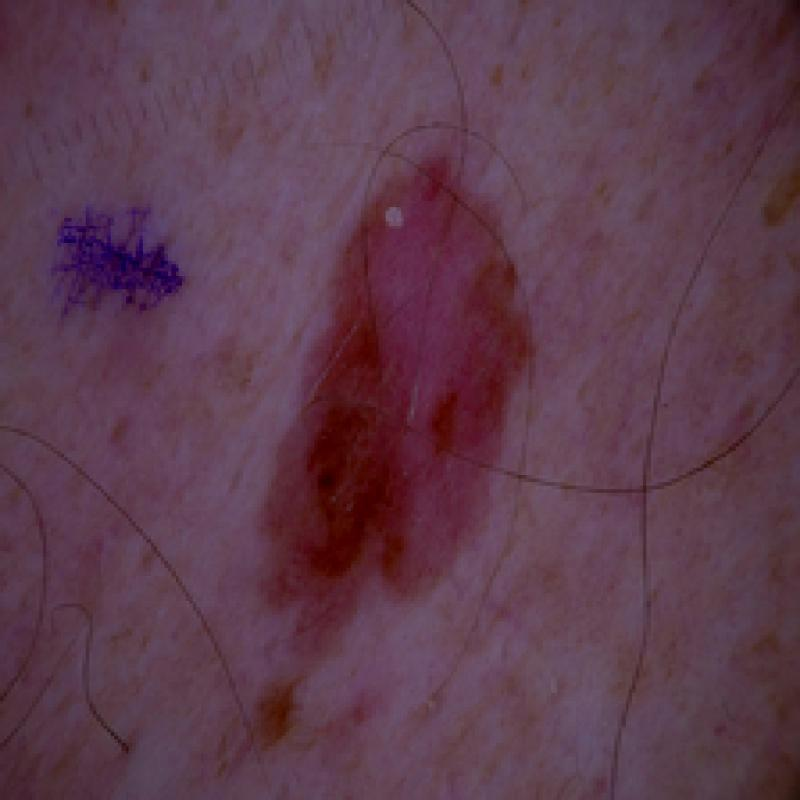benign: (223, 138, 563, 744)
